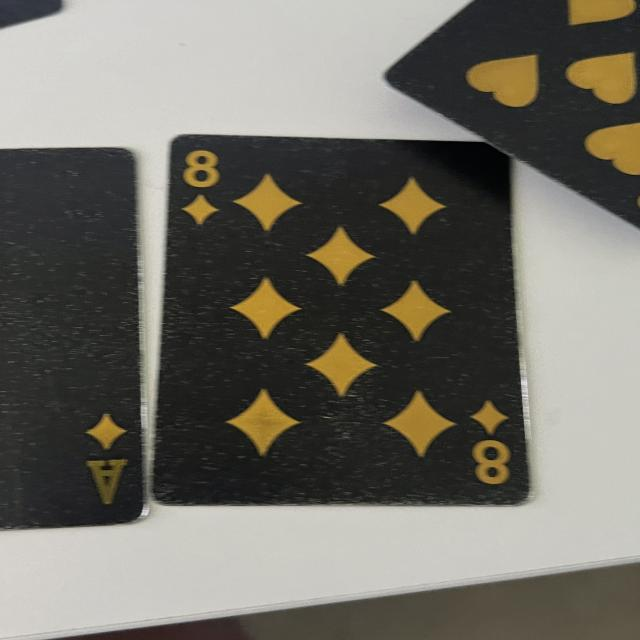8D: (459, 392, 519, 491), (176, 143, 232, 226)
AD: (82, 412, 149, 521)
